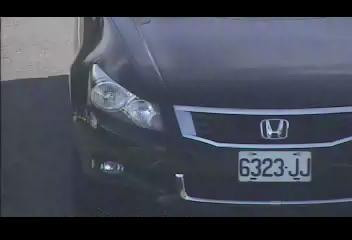plate: (237, 150, 314, 183)
